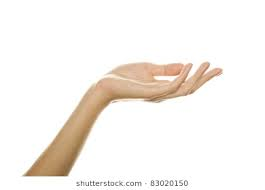palm: (115, 66, 163, 95)
